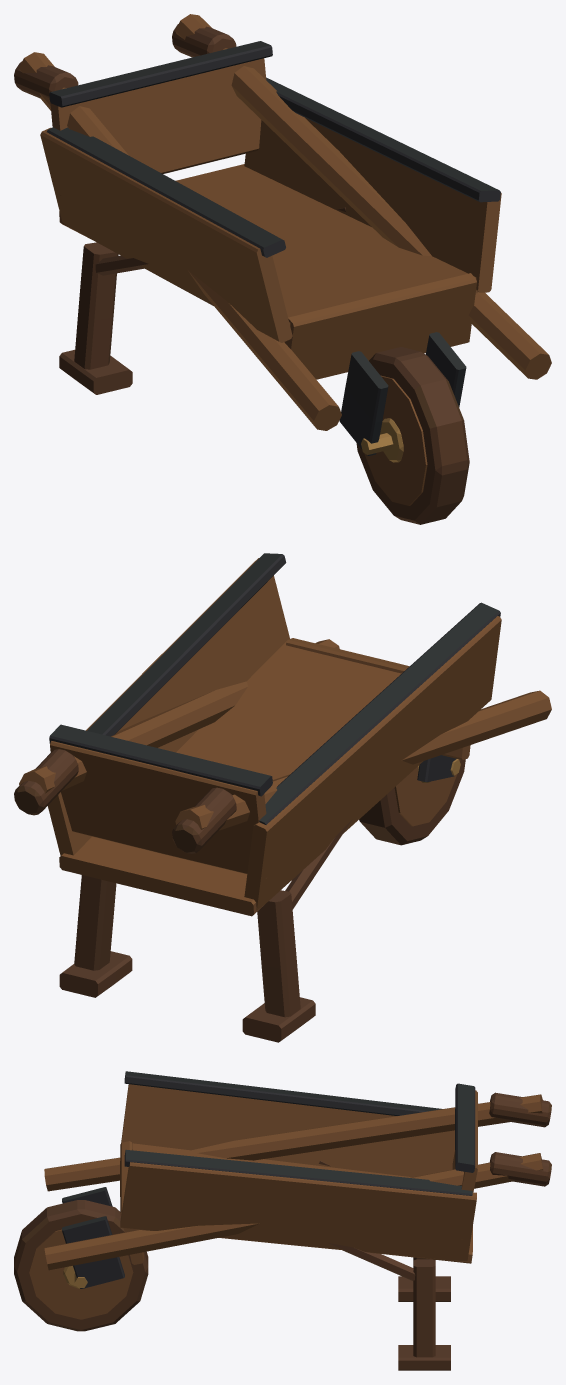
Rendered from prop_wheelbarrow_a.glb.
3 views of the same model, one above another, from view 1: azimuth 30°, elevation 25°; view 2: azimuth 150°, elevation 25°; view 3: azimuth 270°, elevation 25° (orthographic). The views are drawn at different scales.
Parts seen in each view (by area): view 1: barrow_rail_0, barrow_fork_0, barrow_foot_0, barrow_axle; view 2: barrow_rail_0, barrow_foot_0, barrow_fork_0; view 3: barrow_rail_0, barrow_foot_0, barrow_fork_0.
Boxes of the visible parts, x1,y1,x2,y2 form: barrow_rail_0: (19,14,551,505); barrow_fork_0: (47,41,500,455); barrow_foot_0: (14,24,469,524); barrow_axle: (361,418,403,462); barrow_rail_0: (19,558,551,916); barrow_foot_0: (14,749,465,1042); barrow_fork_0: (49,553,500,824); barrow_rail_0: (29,1084,542,1319); barrow_foot_0: (14,1092,551,1370); barrow_fork_0: (62,1071,475,1288).
Bounding box in the file's own units: 0.5351 × 0.5929 × 1.32.
